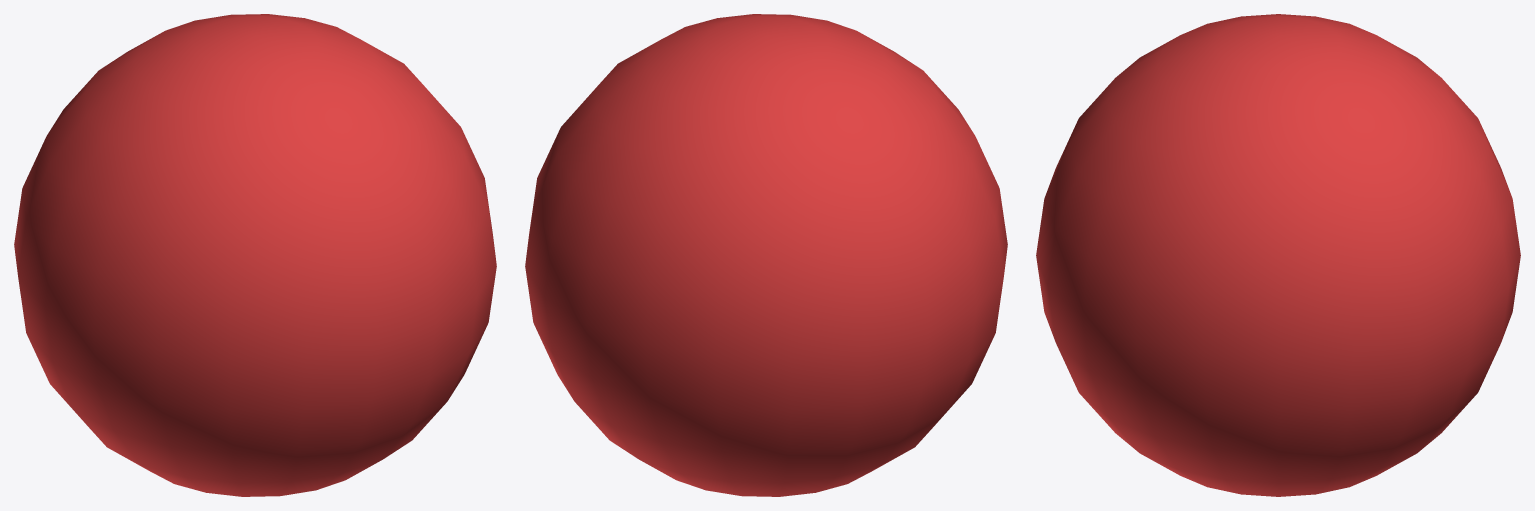
File: q_trick_ball.glb
3 views of the same model, side by side, from view 1: azimuth 30°, elevation 25°; view 2: azimuth 150°, elevation 25°; view 3: azimuth 270°, elevation 25° (orthographic).
Visible parts, largest first — view 1: q_trick_ball / material batches; view 2: q_trick_ball / material batches; view 3: q_trick_ball / material batches.
Boxes of the visible parts, box(x1,y1,x2,y2) form: q_trick_ball / material batches: box(14, 14, 496, 496); q_trick_ball / material batches: box(525, 14, 1007, 496); q_trick_ball / material batches: box(1036, 14, 1520, 496).
Bounding box in the file's own units: 0.26 × 0.26 × 0.26.
